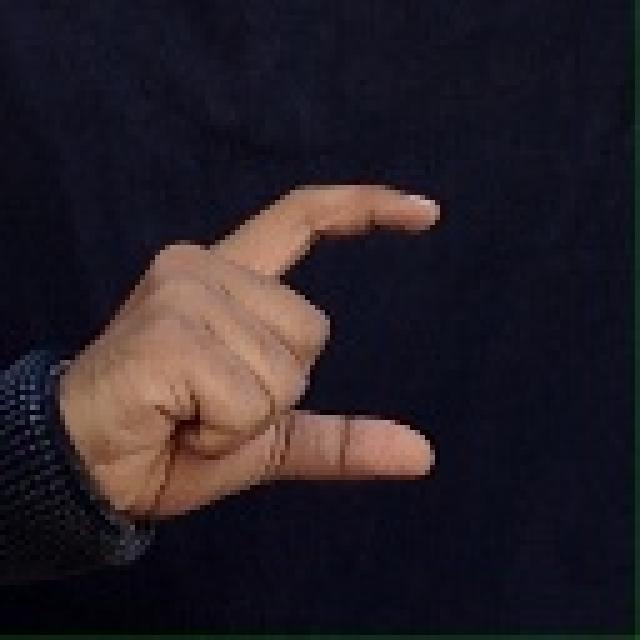Y: (45, 165, 450, 525)
